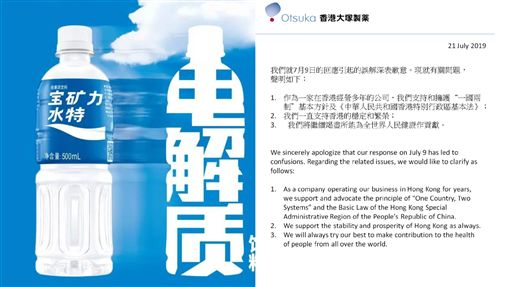POCARI SWEAT: (33, 23, 115, 278)
